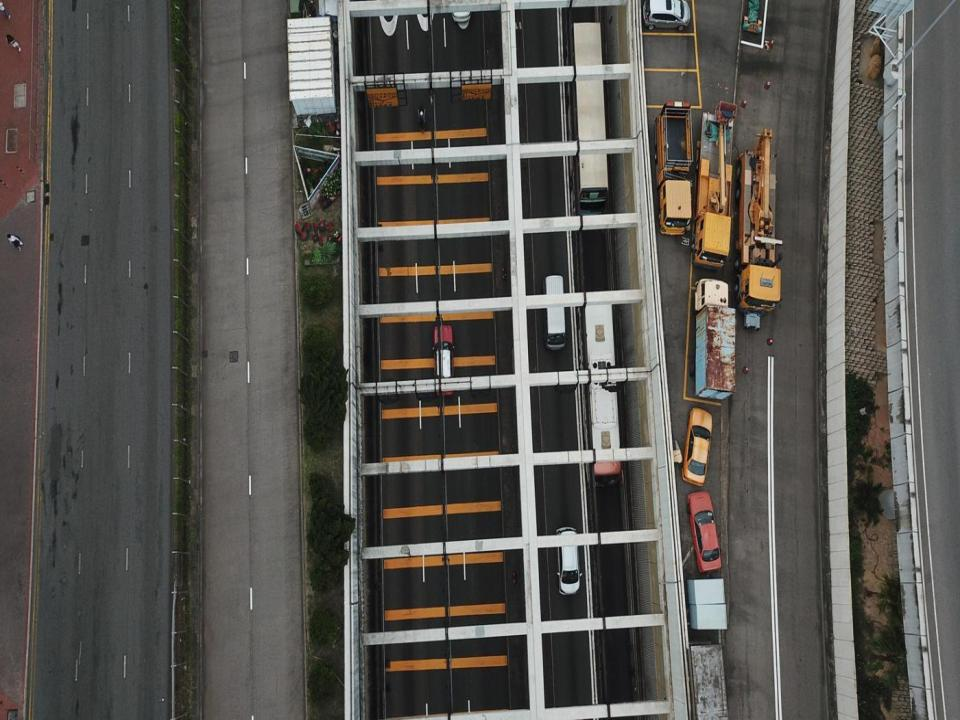bus: (578, 294, 623, 490), (571, 19, 608, 224)
car: (687, 491, 721, 572), (681, 406, 712, 485), (433, 324, 454, 396)
truck: (738, 127, 782, 326), (691, 101, 737, 267), (688, 279, 736, 398), (654, 101, 693, 233)
van: (555, 525, 582, 595), (543, 274, 566, 352), (642, 0, 690, 31)
